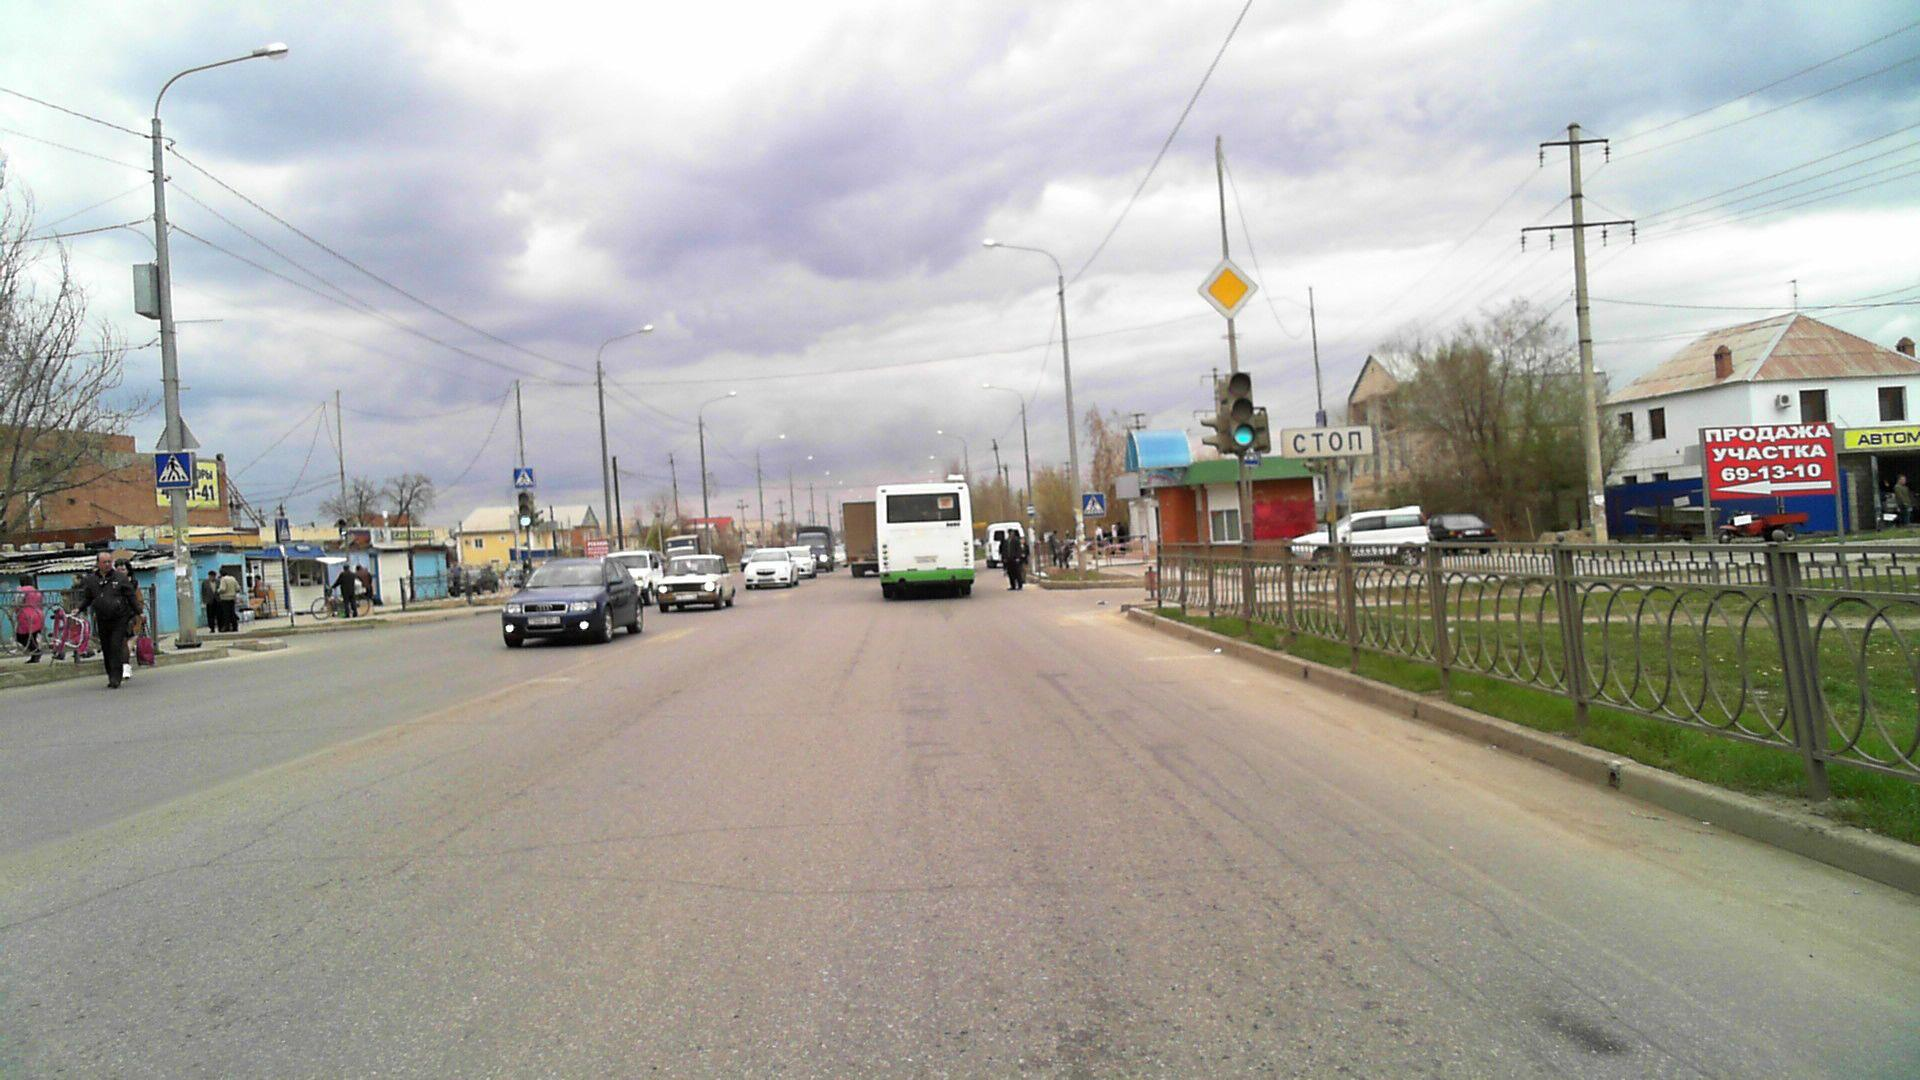2_1: (1196, 260, 1257, 319)
5_16: (1027, 504, 1036, 520)
5_19_1: (1080, 493, 1105, 518)
5_19_2: (152, 452, 194, 488), (513, 465, 534, 487)
6_16: (1283, 429, 1373, 455)
